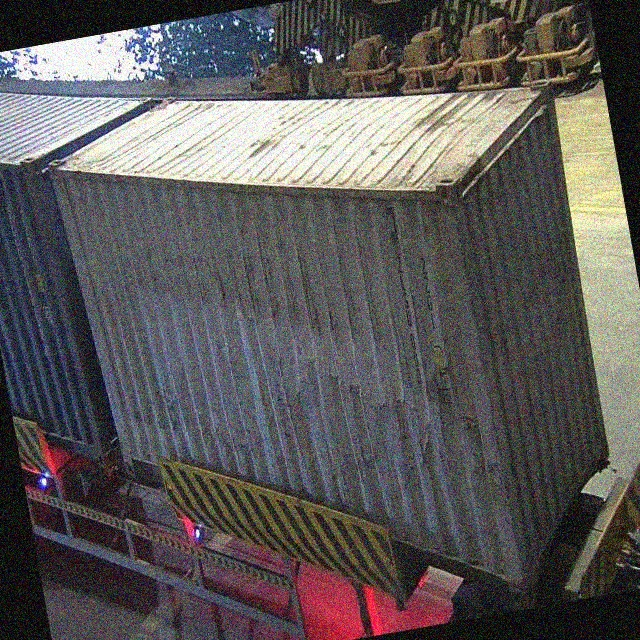Dent: (306, 328, 445, 498)
